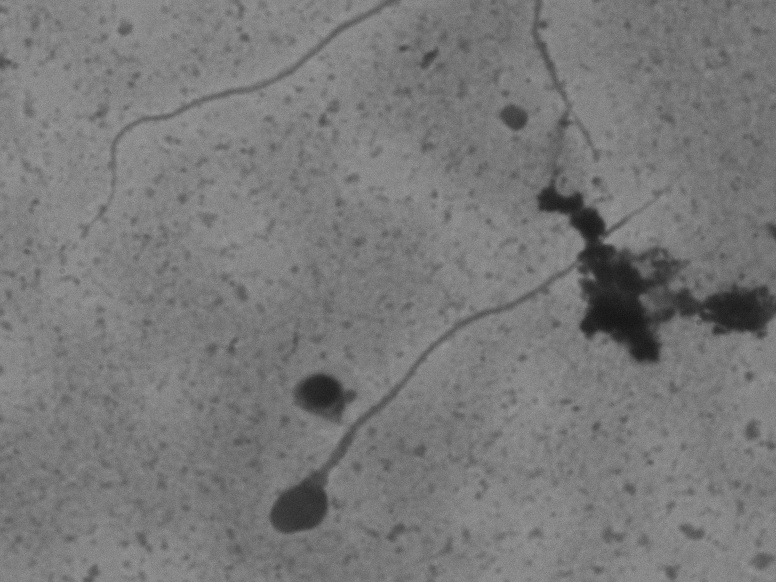Abnormal: (259, 182, 678, 547)
